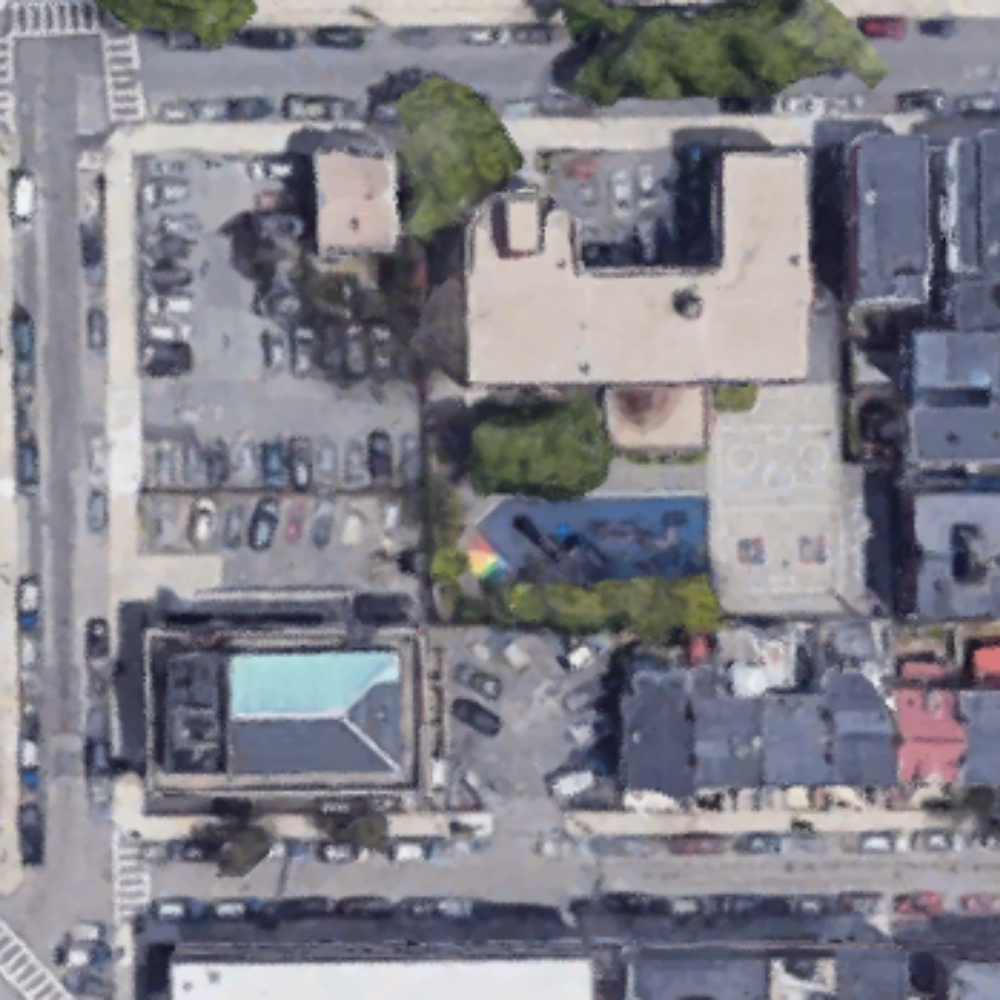parking: (135, 150, 425, 550), (430, 625, 615, 805), (550, 150, 715, 265)
